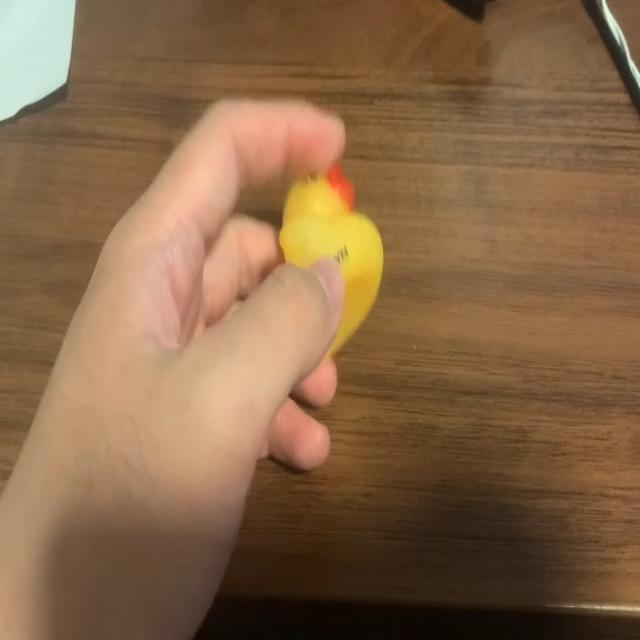rubber-duck: (278, 164, 381, 352)
